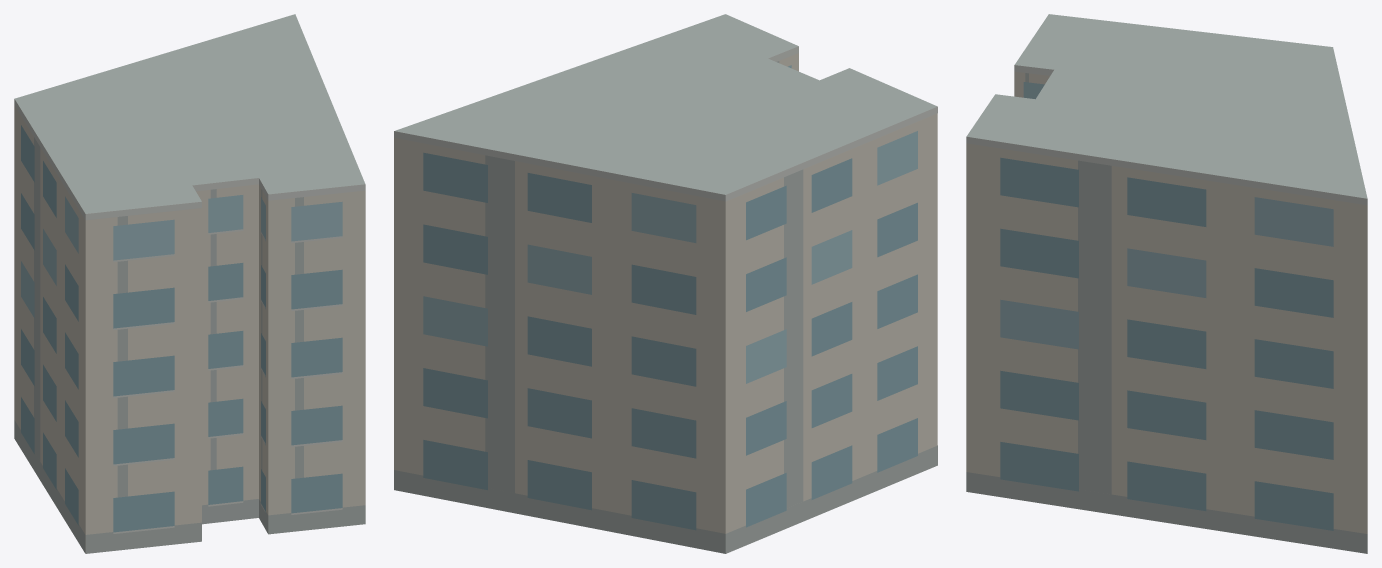
Rendered from survey-upis-32636875.glb.
The picture shows the model from 3 angles, left to right: view 1: azimuth 30°, elevation 25°; view 2: azimuth 150°, elevation 25°; view 3: azimuth 270°, elevation 25°; orthographic projection. The views are drawn at different scales.
Visible parts, largest first — view 1: survey-upis-32636875.tmp; view 2: survey-upis-32636875.tmp; view 3: survey-upis-32636875.tmp.
Part boxes in pixels (<box>): survey-upis-32636875.tmp: <box>14,14,365,553</box>; survey-upis-32636875.tmp: <box>394,14,937,553</box>; survey-upis-32636875.tmp: <box>966,14,1367,553</box>.
Size of the model in its own units: 14.62 by 13.1 by 13.43.
